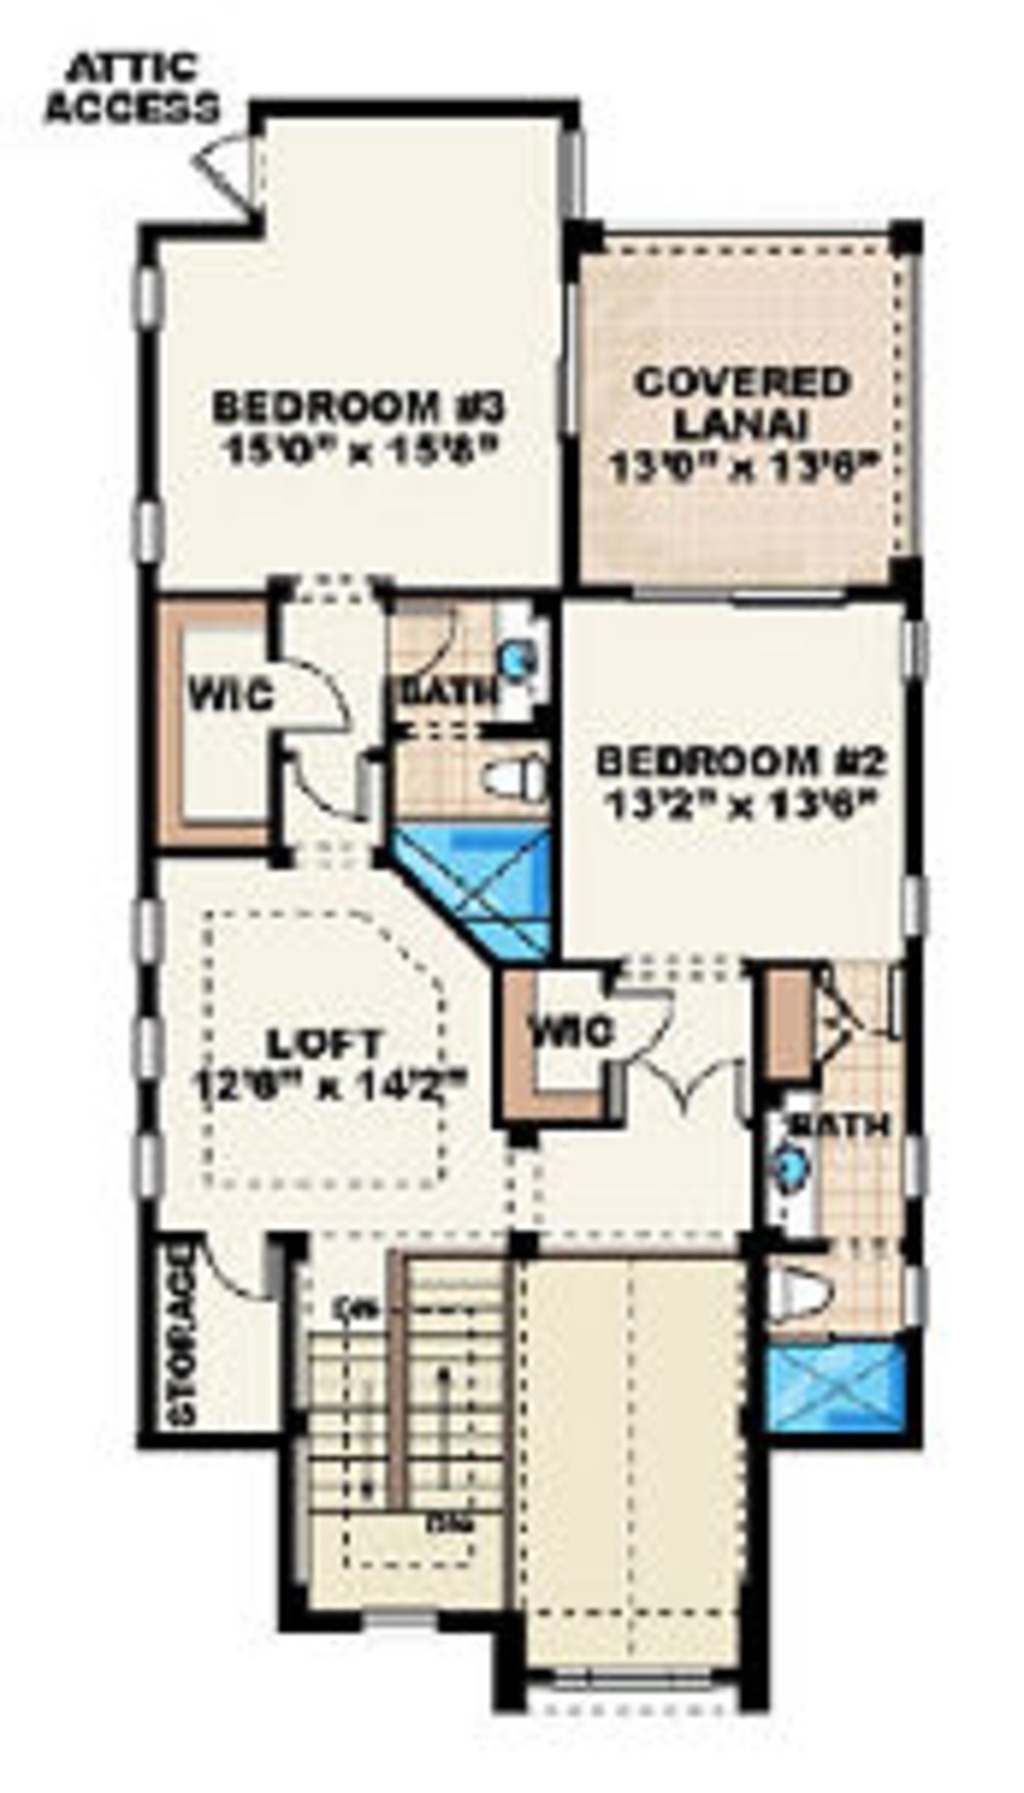door: (263, 651, 357, 740), (618, 1055, 740, 1121), (188, 122, 263, 216), (382, 605, 457, 680), (295, 755, 368, 830), (607, 984, 679, 1055)
large_sink: (757, 1261, 847, 1336), (459, 747, 545, 823)
small_sink: (490, 603, 551, 717)
stairs: (284, 1247, 505, 1610)
windows: (124, 896, 174, 1195), (538, 1653, 720, 1703), (545, 119, 593, 220), (892, 861, 934, 942), (890, 619, 938, 683)
